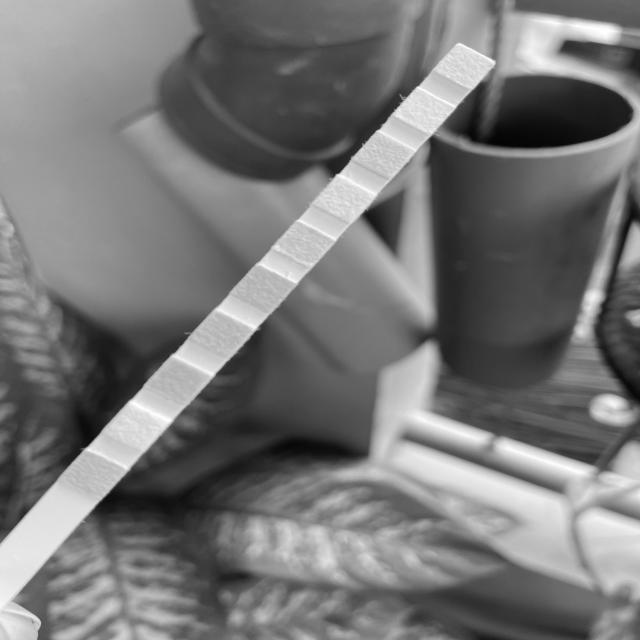Bilirubin: (114, 416, 158, 440)
Blood: (244, 277, 282, 301)
Glucose: (73, 462, 113, 488)
Ketone: (158, 369, 201, 392)
Leukocytes: (446, 56, 482, 78)
Nitrite: (403, 100, 442, 121)
Protein: (324, 190, 363, 209)
SpGravity: (202, 322, 242, 346)
Urobilinogen: (364, 143, 402, 167)
background: (0, 0, 640, 640)
pH: (284, 233, 322, 254)
strip: (0, 44, 496, 610)
